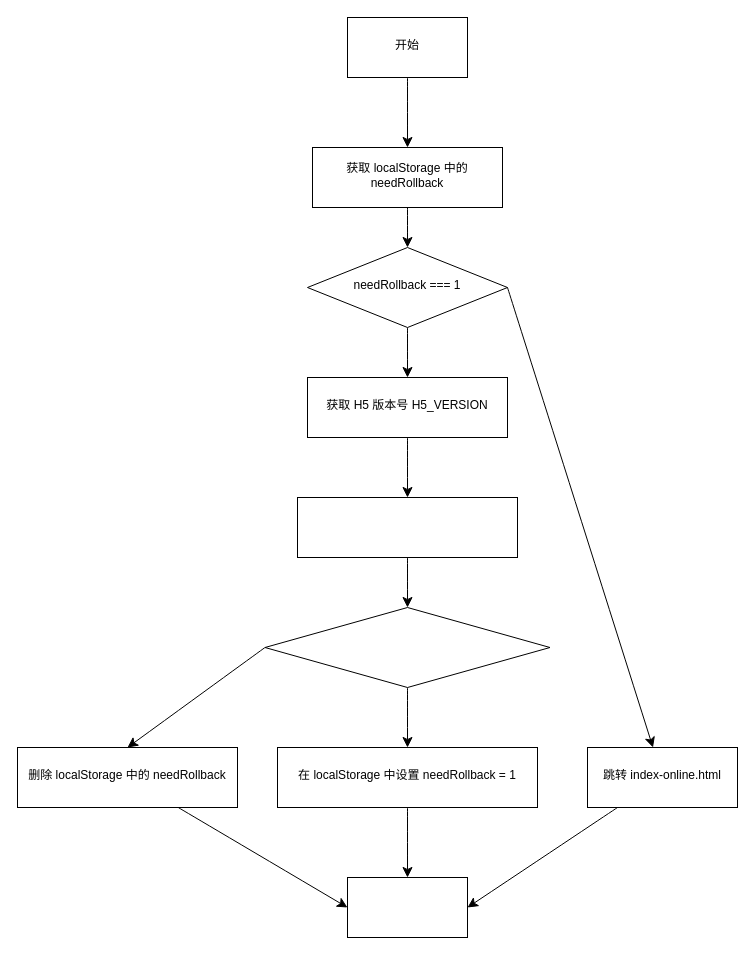
The diagram is 755 pixels wide and 955 high, and some of its shapes have lost their labels. The shapes that lost their labels are listed below. From the top down, each one's centre as x and y in pixels, then its label:
[407,527]: 获取配置平台下发的 rollbackVersion
[407,647]: H5_VERSION <= rollbackVersion
[407,907]: 结束
